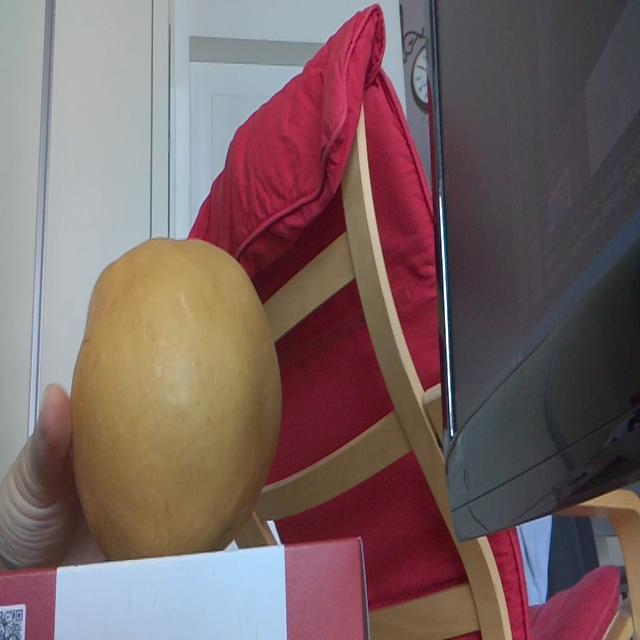pear: (70, 235, 282, 548)
